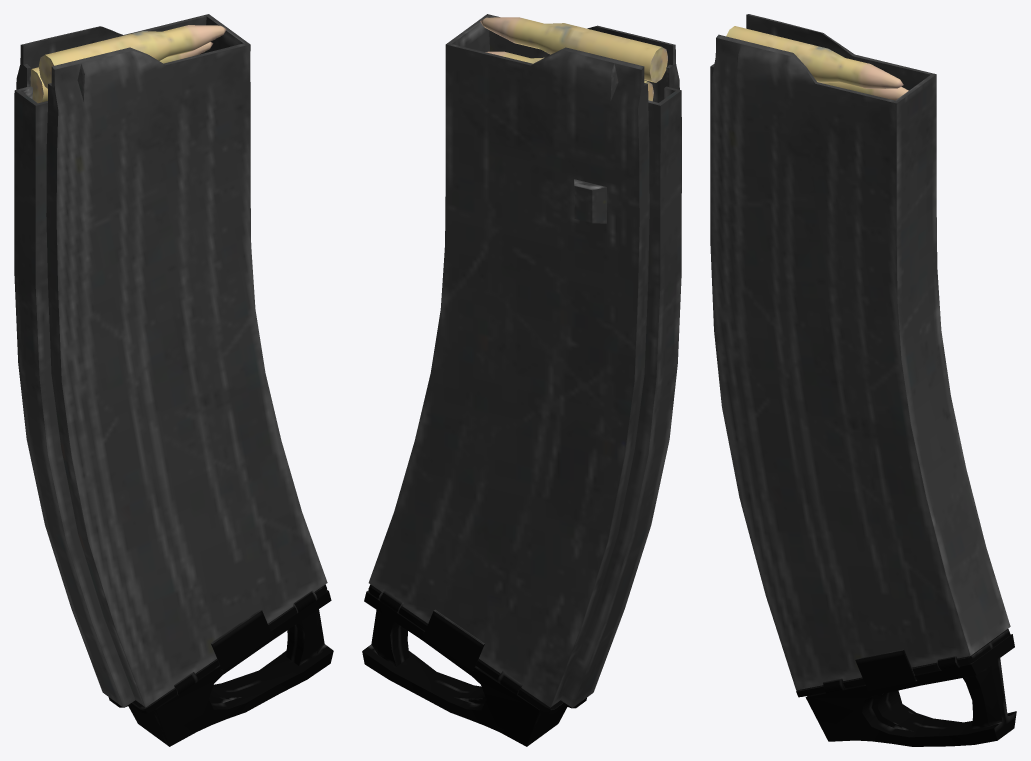
File: ST_MAG_Q_HK416.FBX
The picture shows the model from 3 angles, left to right: view 1: azimuth 30°, elevation 25°; view 2: azimuth 150°, elevation 25°; view 3: azimuth 330°, elevation 25°; orthographic projection. The views are drawn at different scales.
Visible parts, largest first — view 1: ST_MAG_Q_HK416; view 2: ST_MAG_Q_HK416; view 3: ST_MAG_Q_HK416.
Part boxes in pixels (x1,y1,x2,y2): ST_MAG_Q_HK416: [14, 14, 333, 746]; ST_MAG_Q_HK416: [362, 14, 681, 746]; ST_MAG_Q_HK416: [710, 14, 1016, 746].
Bounding box in the file's own units: 9.48 × 21.61 × 2.83.
Materials: 1 (1 with a texture image).
